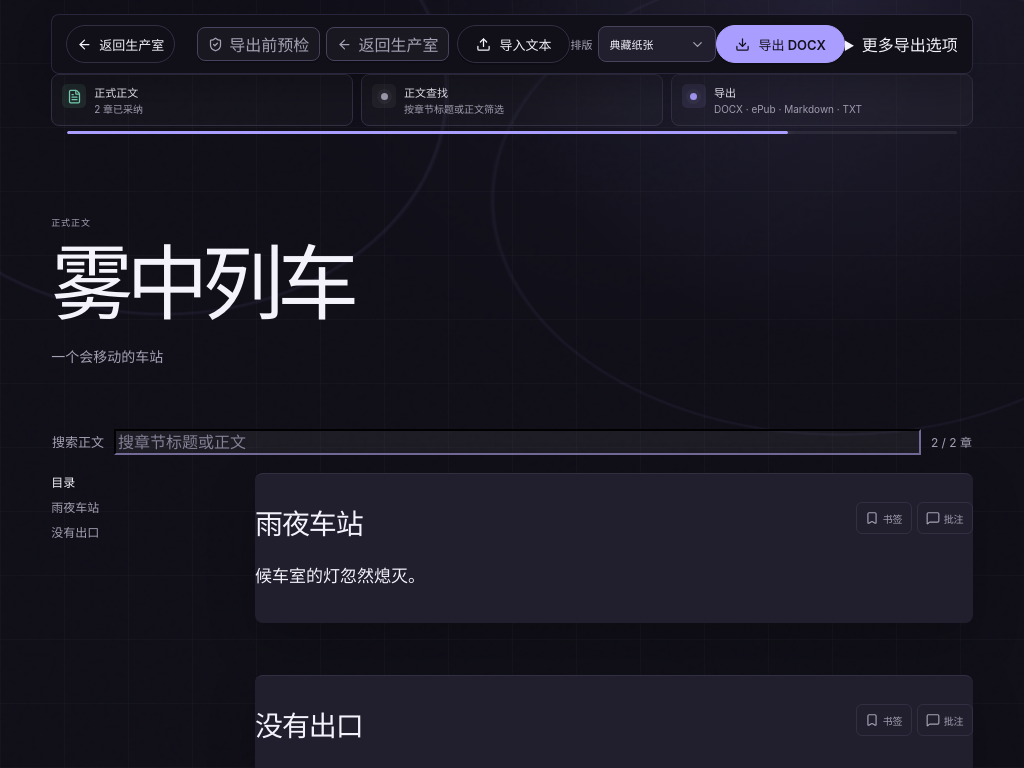
Test: ManuscriptView › keeps the table of contents in sync with filtered chapters
(page scrolled)
Type "地图" into the field labelled "搜索正文".
click(517, 442); type("地图")  # box left=114, top=429, right=921, bottom=455
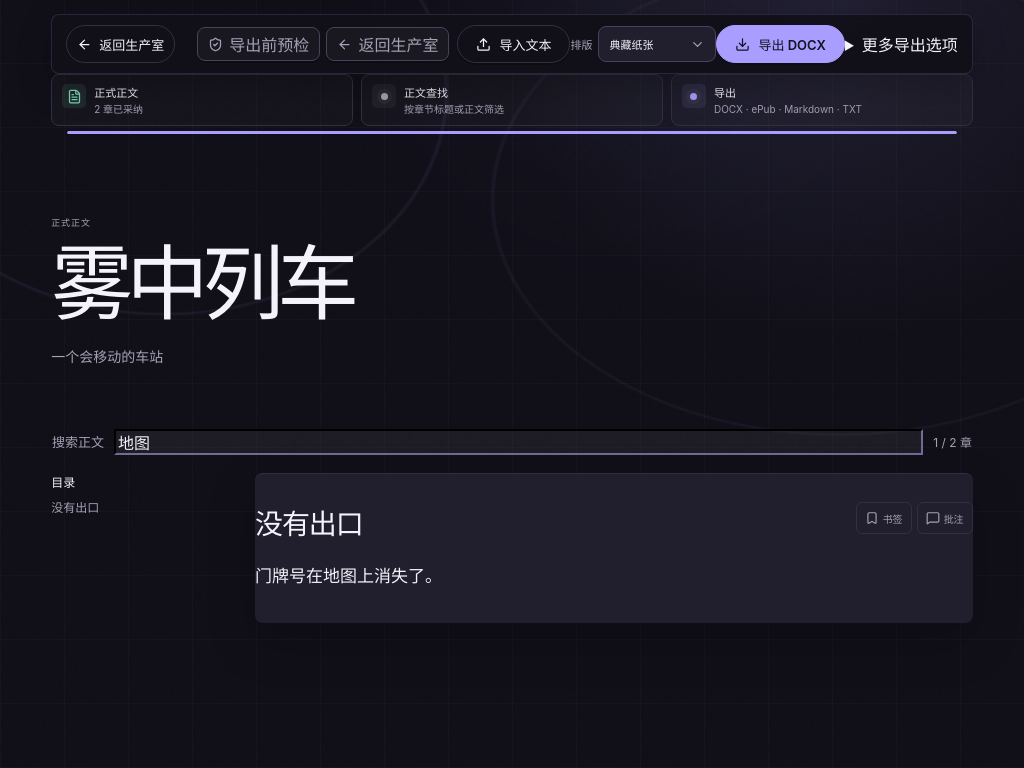
Expected: the link "雨夜车站" is gone
